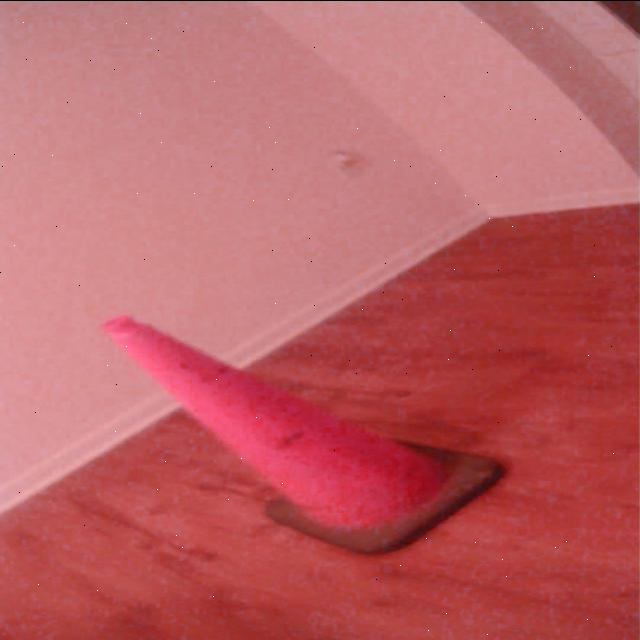traffic cone: (98, 310, 516, 562)
